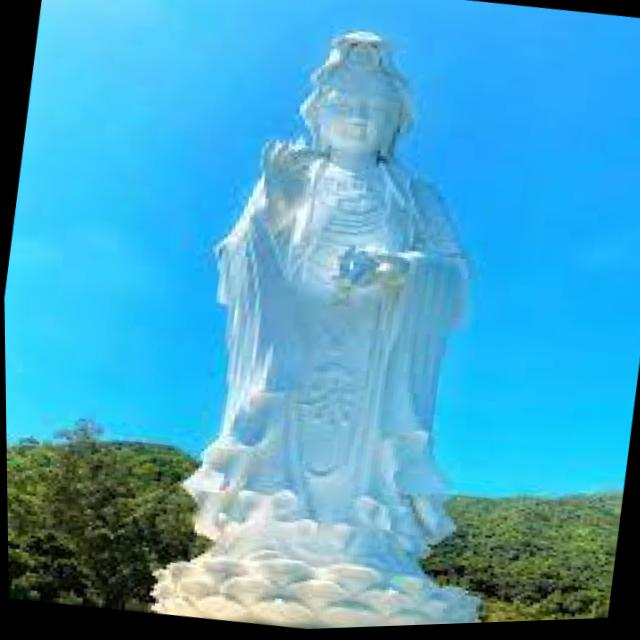Guan Yin: (169, 11, 524, 555)
